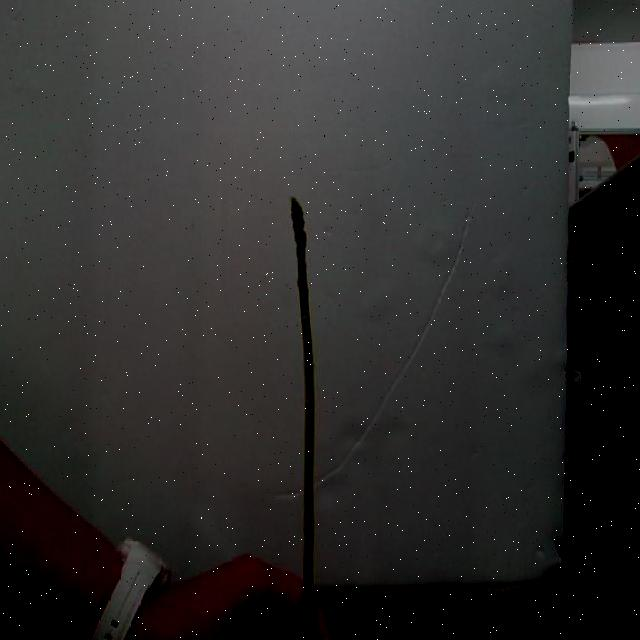aspargus: (289, 198, 317, 640)
